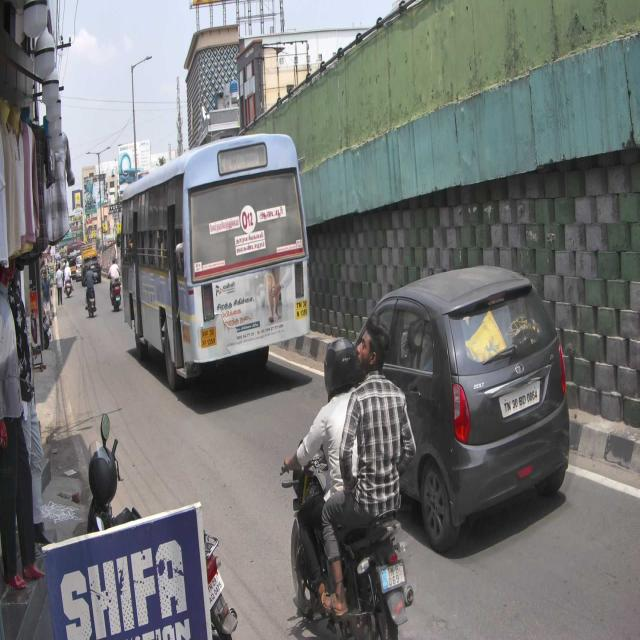double_rider: (280, 316, 415, 640)
